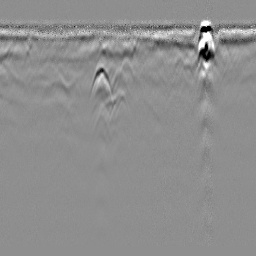cavity: (120, 54, 136, 81)
